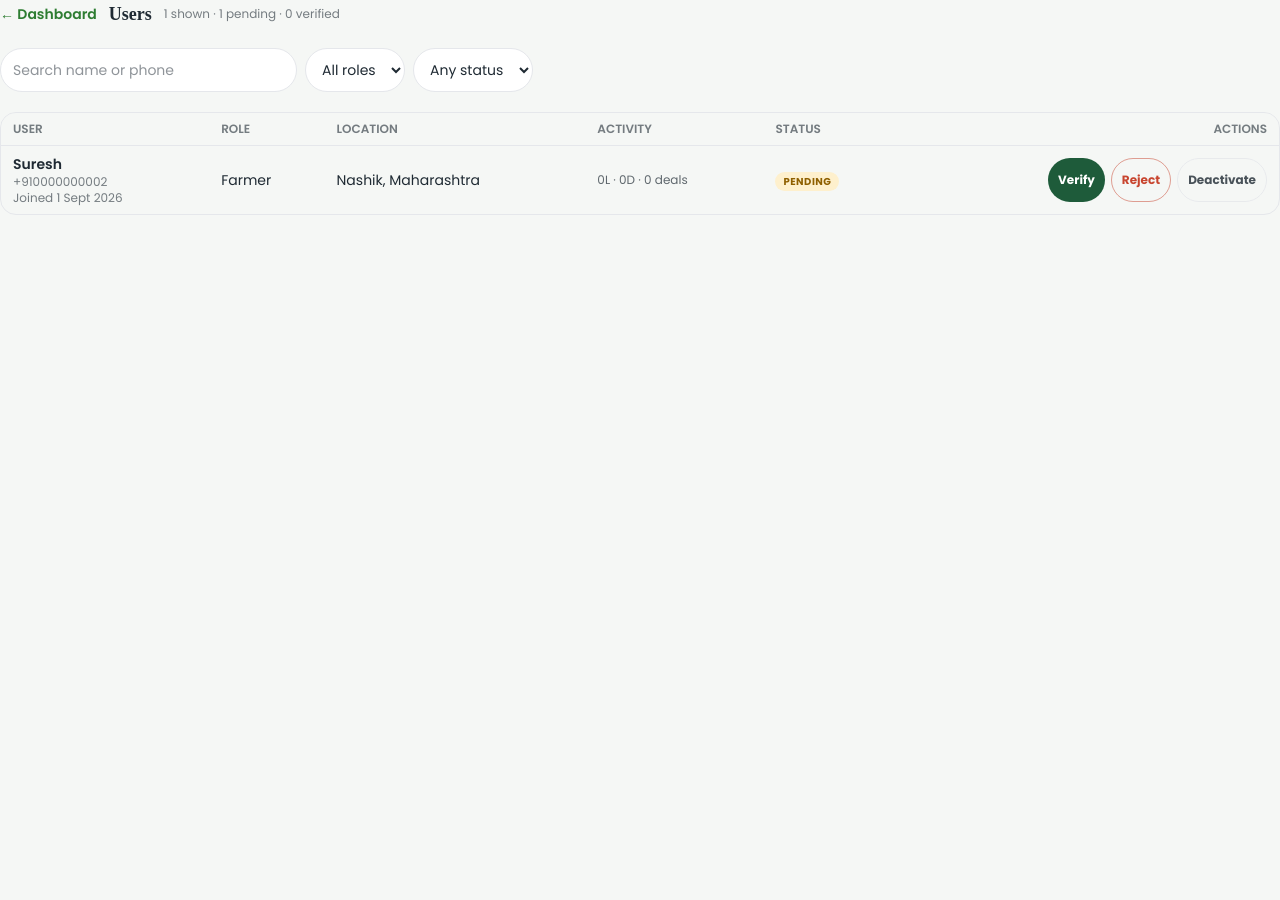
Test: AdminUsersPage reject reason modal › opens an in-page modal instead of window.prompt when rejecting
Step 1. Click the button "Reject" → [1141, 180], box [1111, 158, 1171, 202]
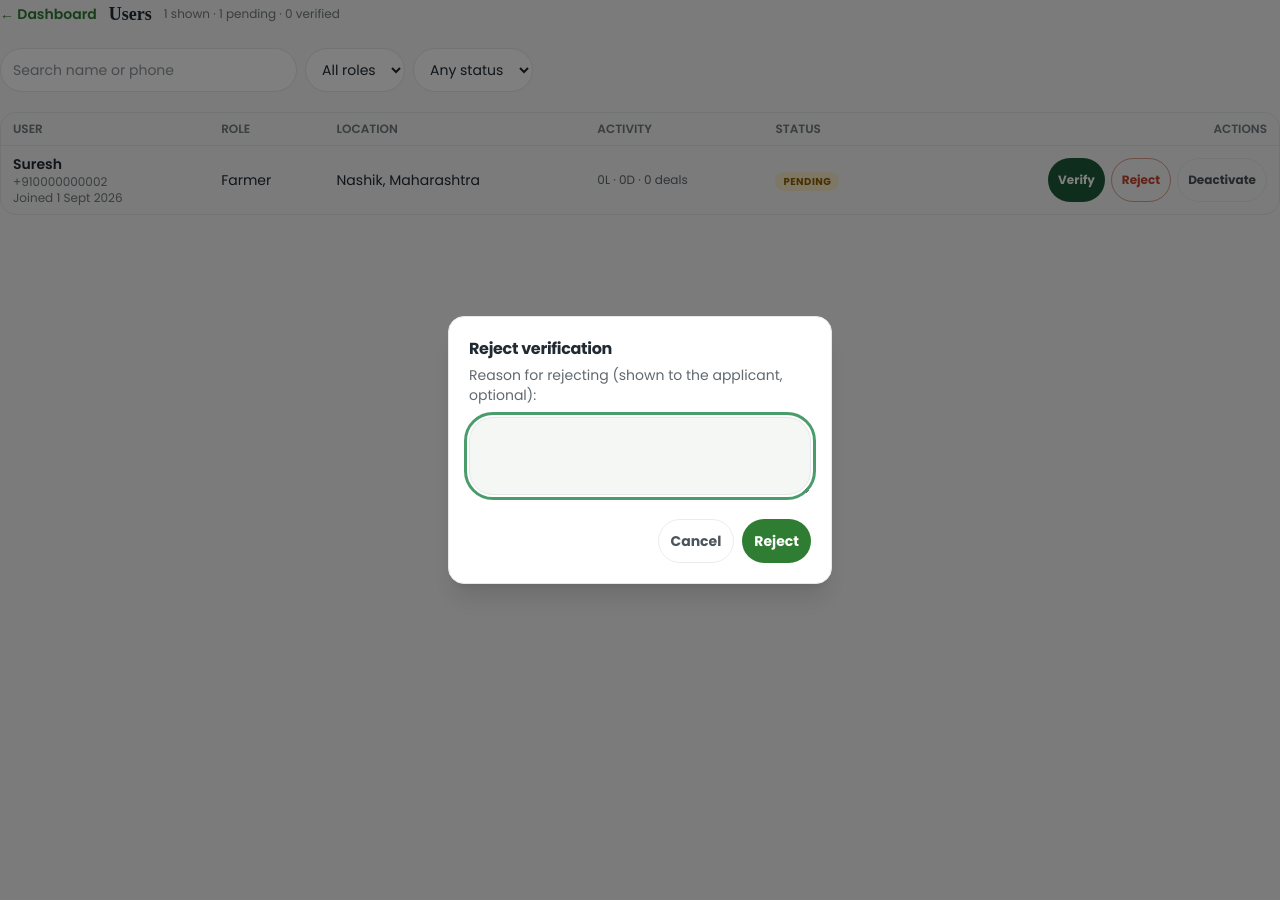
Check: the dialog is shown
